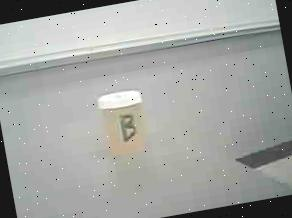Bottle B: (90, 82, 162, 166)
